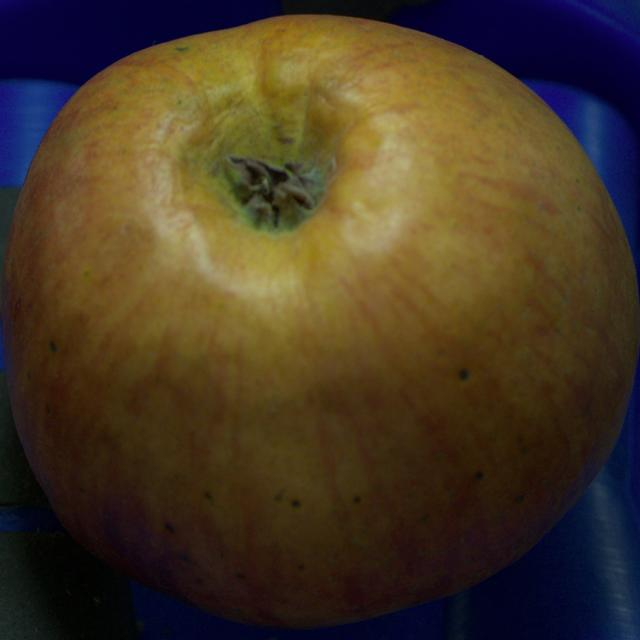apple: (1, 17, 639, 626)
pest: (459, 369, 469, 380), (476, 471, 483, 480), (292, 500, 300, 507), (50, 341, 55, 351)
